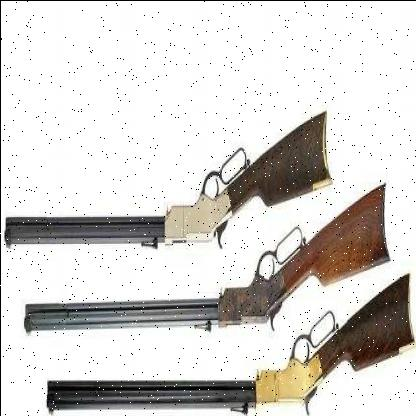rifle: (8, 162, 390, 367), (43, 264, 413, 416), (1, 103, 329, 266)
